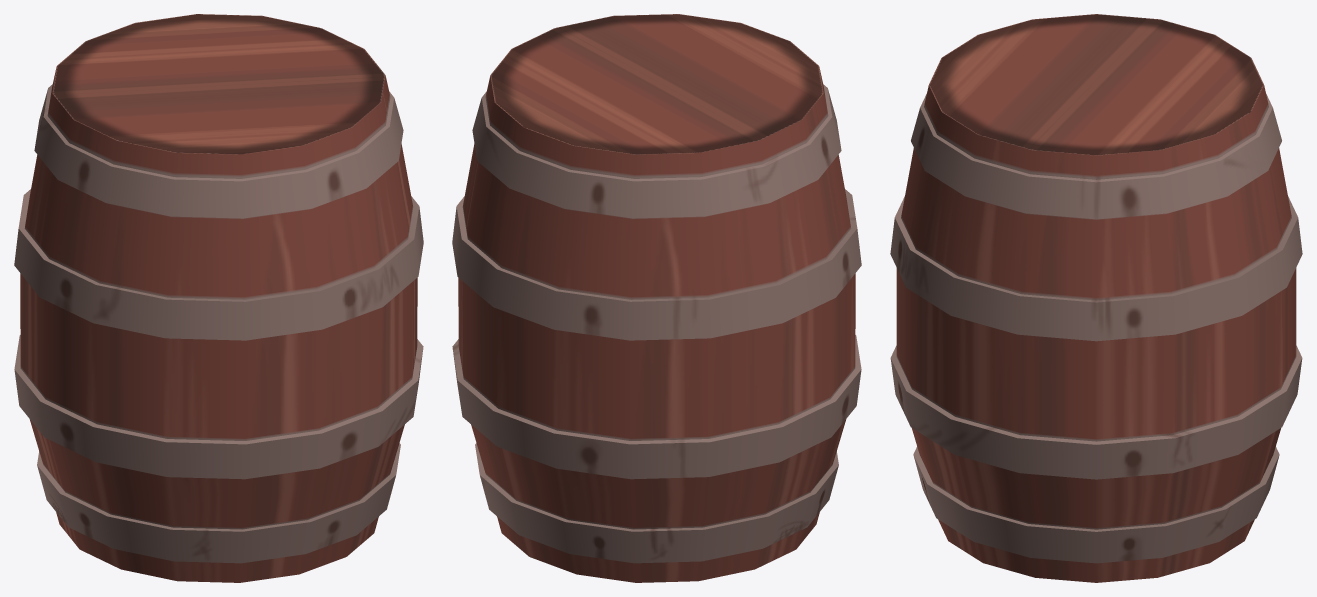
The model's file is barrel.fbx.
The picture shows the model from 3 angles, left to right: view 1: azimuth 30°, elevation 25°; view 2: azimuth 150°, elevation 25°; view 3: azimuth 270°, elevation 25°; orthographic projection.
Visible parts, largest first — view 1: barrel; view 2: barrel; view 3: barrel.
Boxes of the visible parts, x1,y1,x2,y2 form: barrel: [14, 14, 423, 582]; barrel: [452, 14, 861, 582]; barrel: [890, 14, 1302, 582].
Bounding box in the file's own units: 0.639 × 0.7375 × 0.639.
